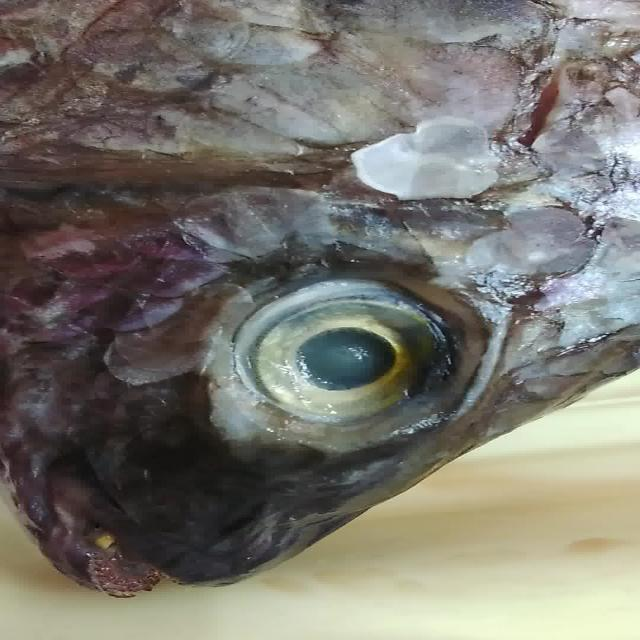Non-Fresh: (26, 9, 616, 247), (205, 262, 500, 461)
